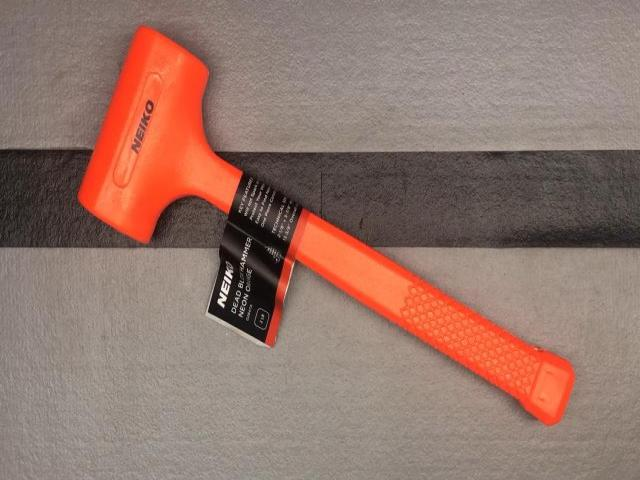hammer: (77, 25, 578, 427)
